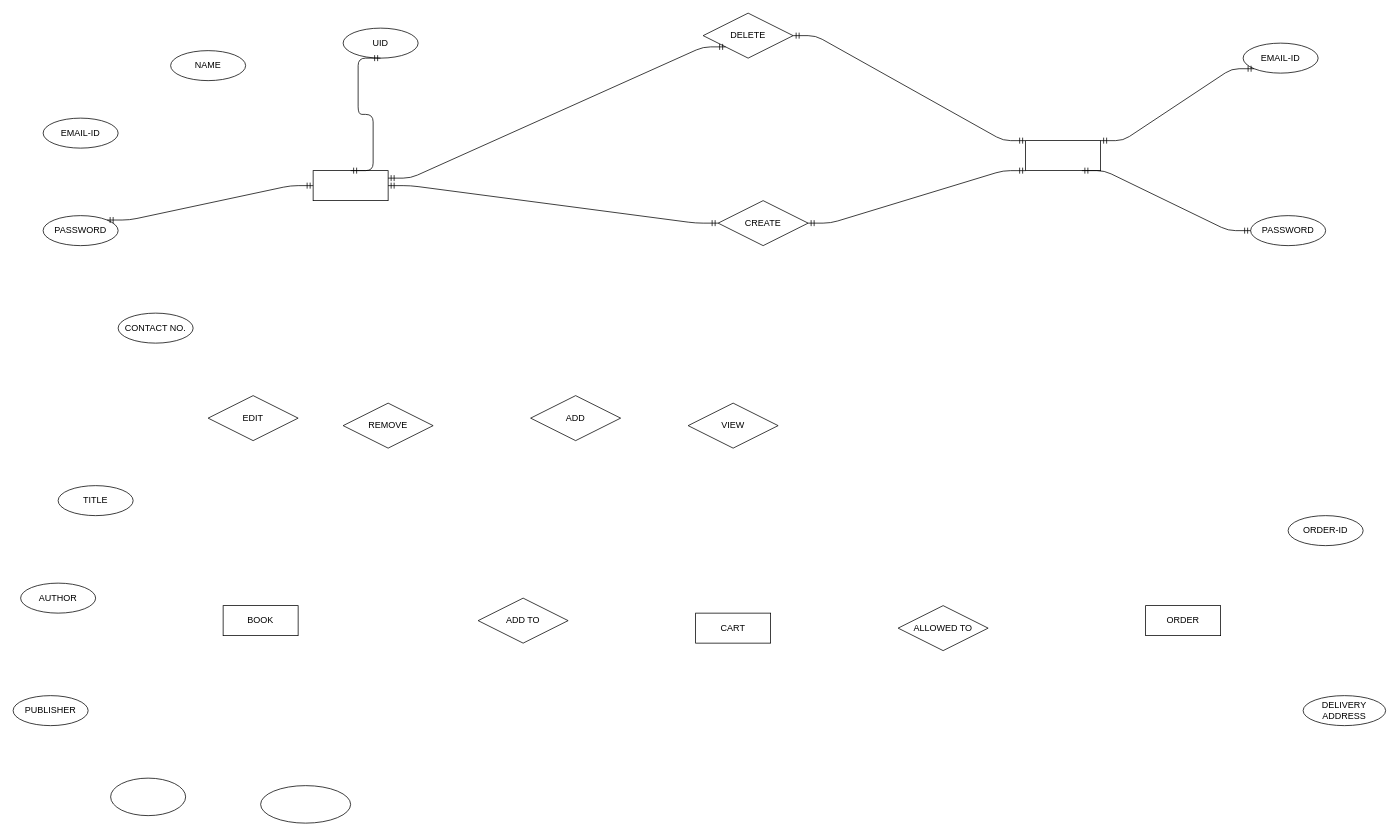
Image size: 1399x836. Some labels were removed from this diagram. Each missing label, with the centre of its shape:
"ACCOUNT" goes at (1063,155).
"PRICE FOR PURCHASE" goes at (305,804).
"PRICE FOR RENT" goes at (148,796).
"USER" goes at (350,185).
